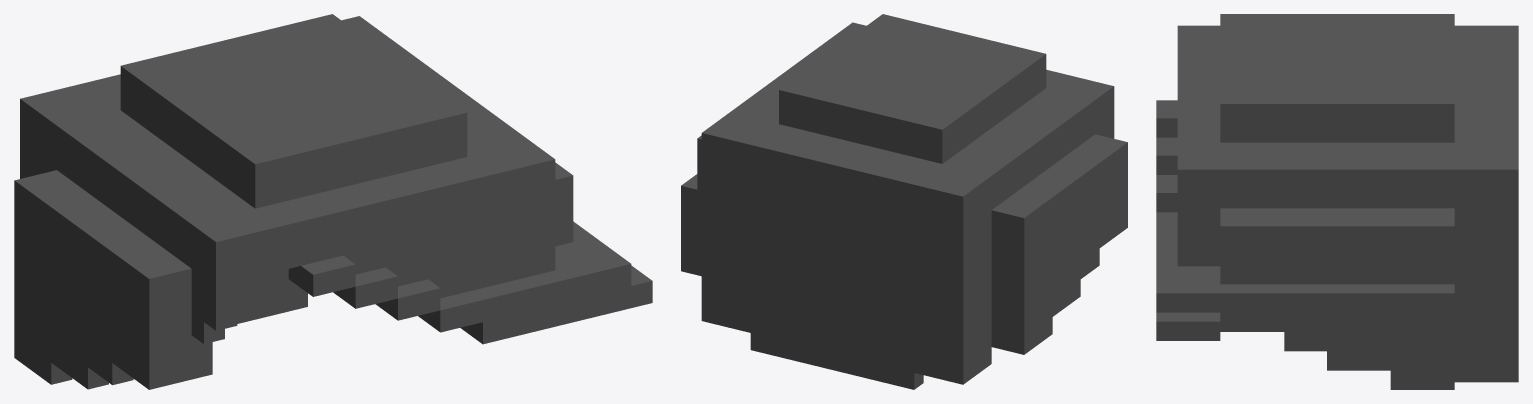
The picture shows the model from 3 angles, left to right: view 1: azimuth 30°, elevation 25°; view 2: azimuth 150°, elevation 25°; view 3: azimuth 270°, elevation 25°; orthographic projection. The views are drawn at different scales.
Visible parts, largest first — view 1: 72; view 2: 72; view 3: 72.
Part boxes in pixels (bbox=[...]): 72: bbox=[14, 14, 652, 389]; 72: bbox=[681, 14, 1127, 389]; 72: bbox=[1156, 14, 1518, 389].
Bounding box in the file's own units: 0.8661 × 0.5512 × 0.6693.
1 material, 1 textured.
